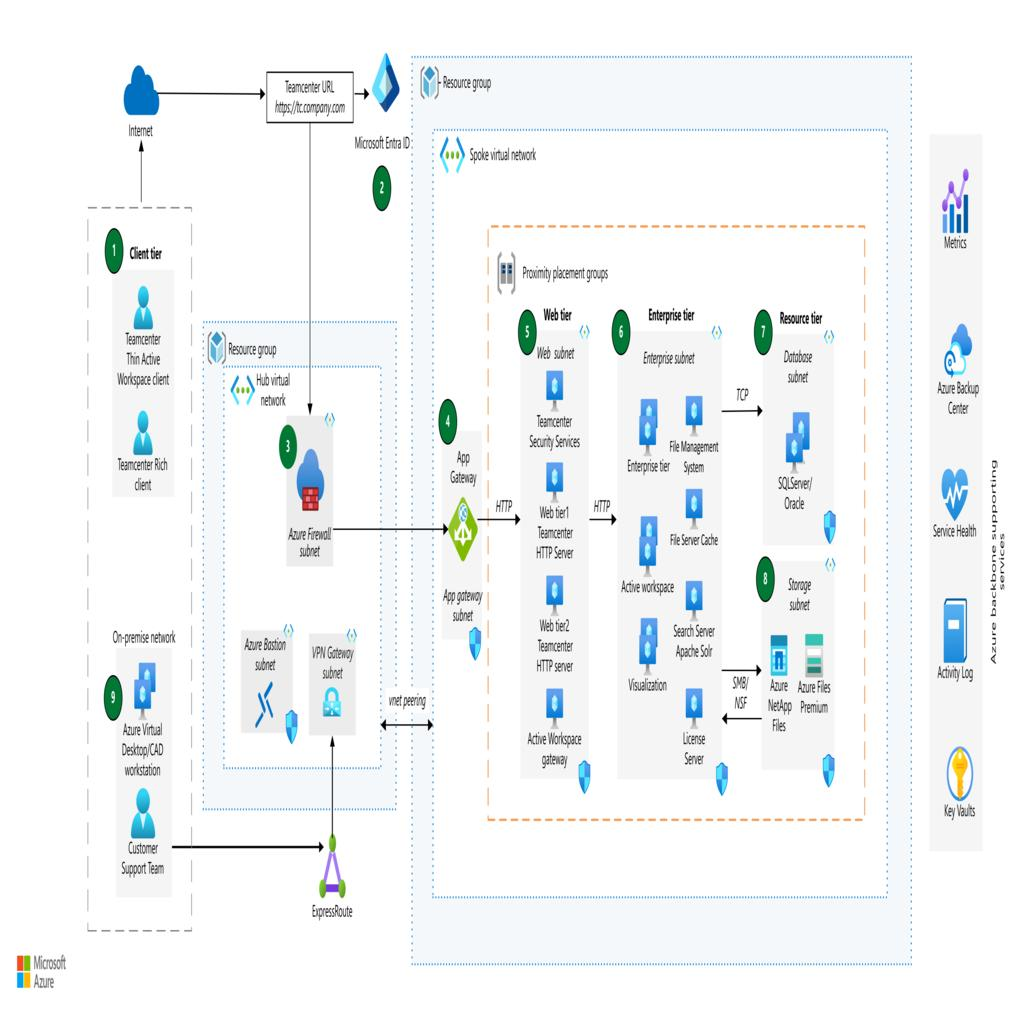actor: (109, 51, 170, 133), (109, 276, 170, 358), (109, 400, 170, 482), (109, 788, 170, 870)
api_gateway: (436, 481, 486, 563)
compute: (109, 656, 170, 738), (528, 353, 578, 425), (528, 466, 578, 538), (528, 588, 578, 660), (528, 691, 578, 763), (622, 522, 668, 584), (622, 614, 668, 676), (672, 696, 718, 758), (672, 594, 718, 655), (622, 400, 668, 460), (672, 400, 718, 460), (672, 492, 718, 552)
data_flow: (306, 112, 310, 420), (182, 842, 300, 848), (330, 742, 336, 834), (380, 719, 433, 729), (366, 525, 443, 530), (161, 90, 245, 94), (714, 407, 760, 412), (714, 674, 760, 678), (486, 520, 528, 524), (578, 520, 620, 524)
database_storage: (776, 410, 832, 492), (758, 646, 798, 706), (794, 646, 834, 706)
network_security: (284, 432, 334, 510), (361, 140, 407, 208), (235, 663, 281, 730), (310, 663, 356, 730), (310, 837, 356, 904)
trust_boundary: (410, 77, 912, 947), (486, 225, 866, 819), (198, 284, 400, 846), (88, 194, 190, 932), (612, 276, 730, 768), (514, 276, 592, 768), (765, 287, 843, 553), (765, 564, 843, 788), (263, 356, 347, 562), (230, 620, 286, 742), (305, 620, 361, 742)
